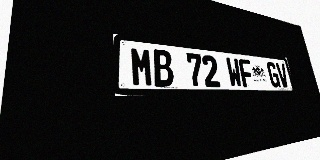2: (201, 54, 221, 87)
7: (185, 53, 205, 87)
B: (152, 49, 175, 87)
F: (238, 58, 255, 87)
G: (266, 62, 281, 88)
M: (130, 47, 154, 87)
V: (275, 63, 290, 88)
W: (225, 57, 243, 87)
